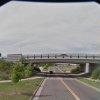Bridge: (16, 47, 95, 73)
